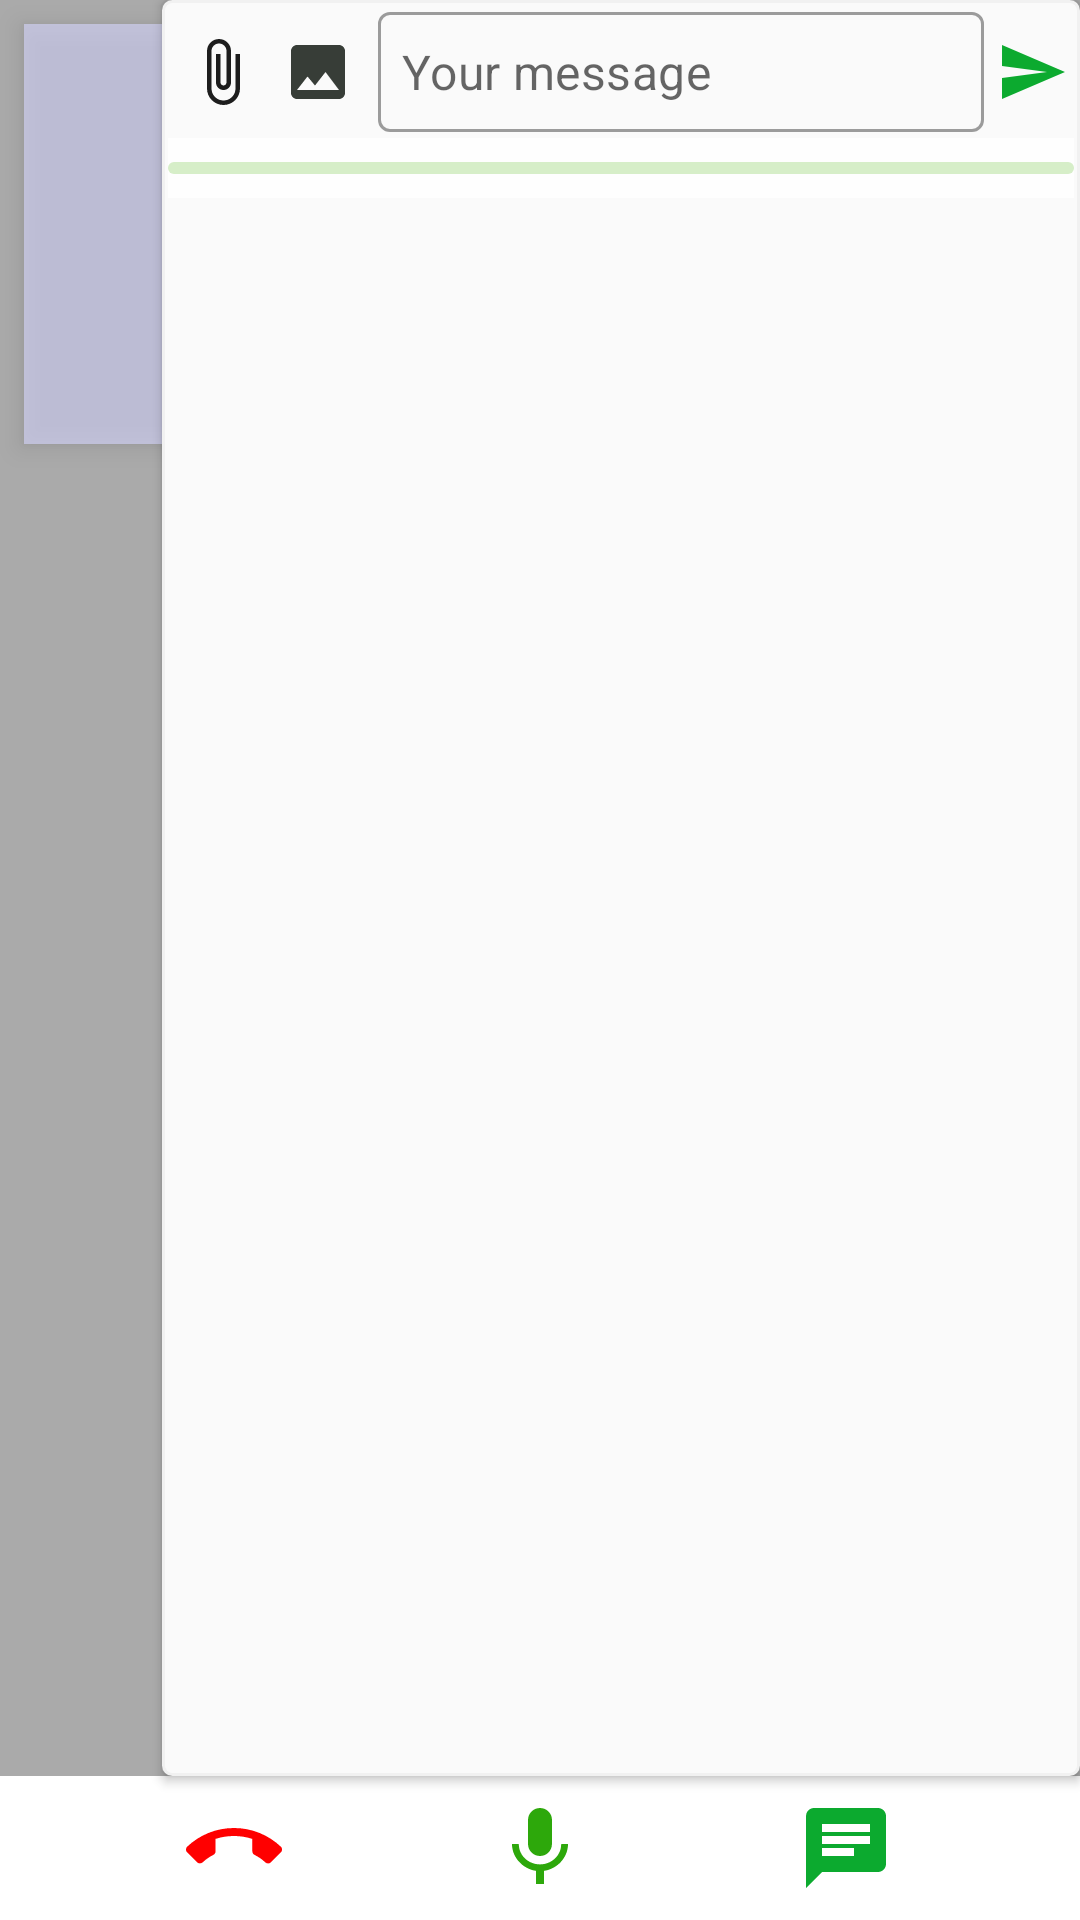

Screen size 1080w x 1920h. Icon name, then its center in pixels as point (x, y):
attach file: point (223, 72)
call end: point (234, 1846)
chat: point (846, 1848)
mic: point (540, 1846)
send message: point (1033, 72)
